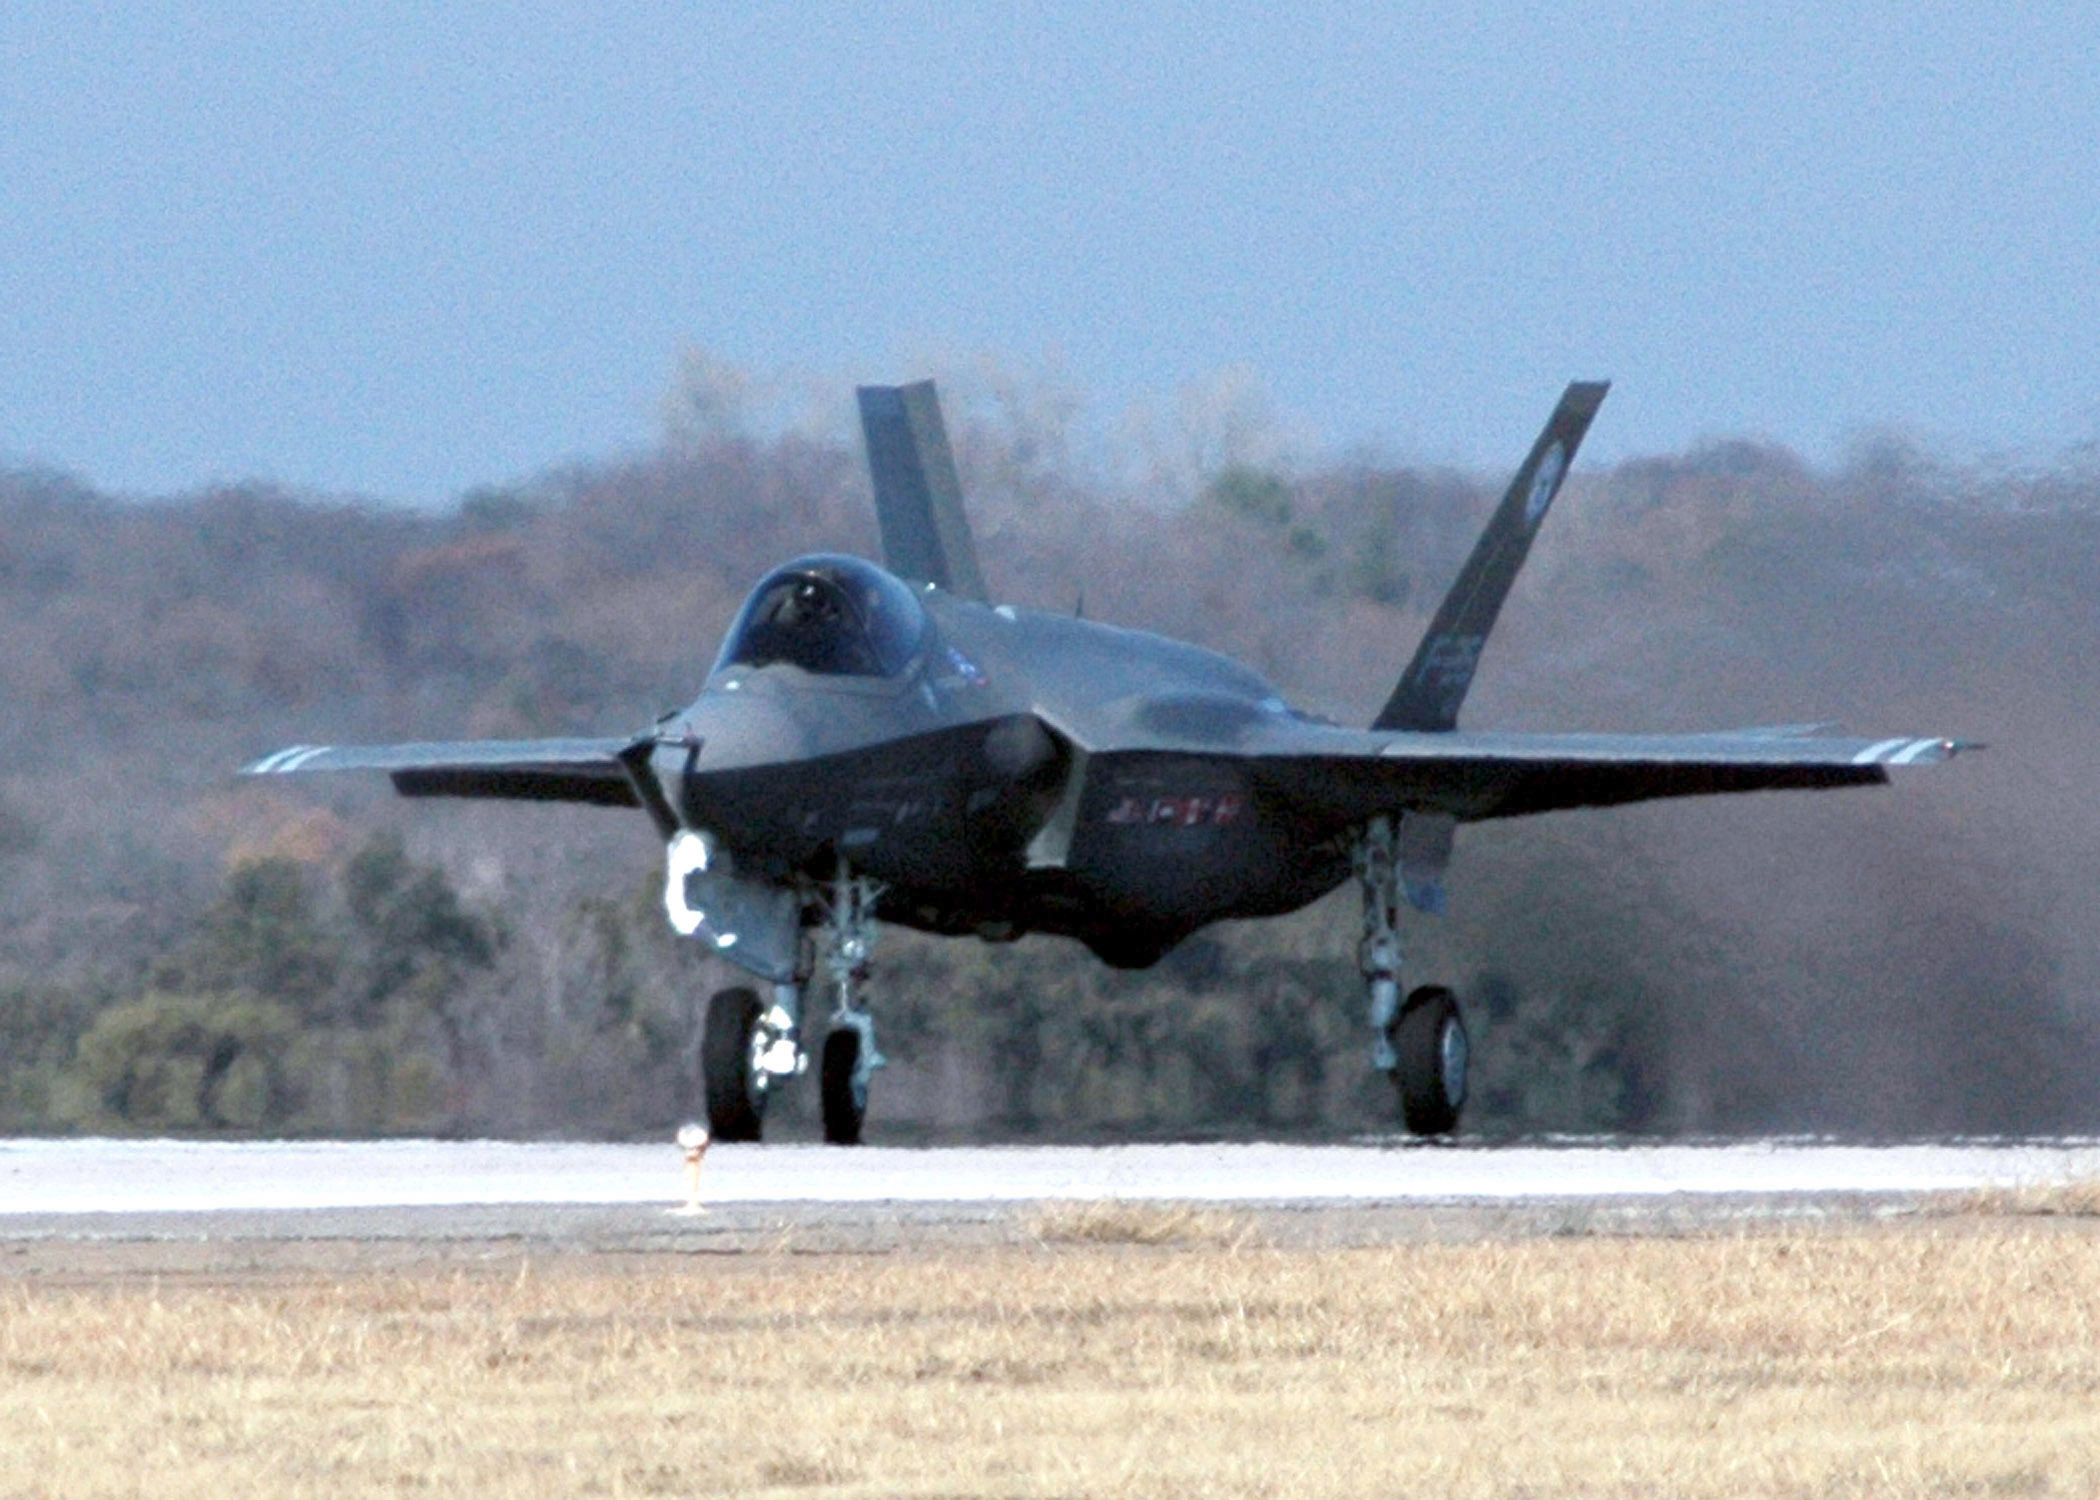F-35 Lightning: (188, 308, 2025, 1177)
